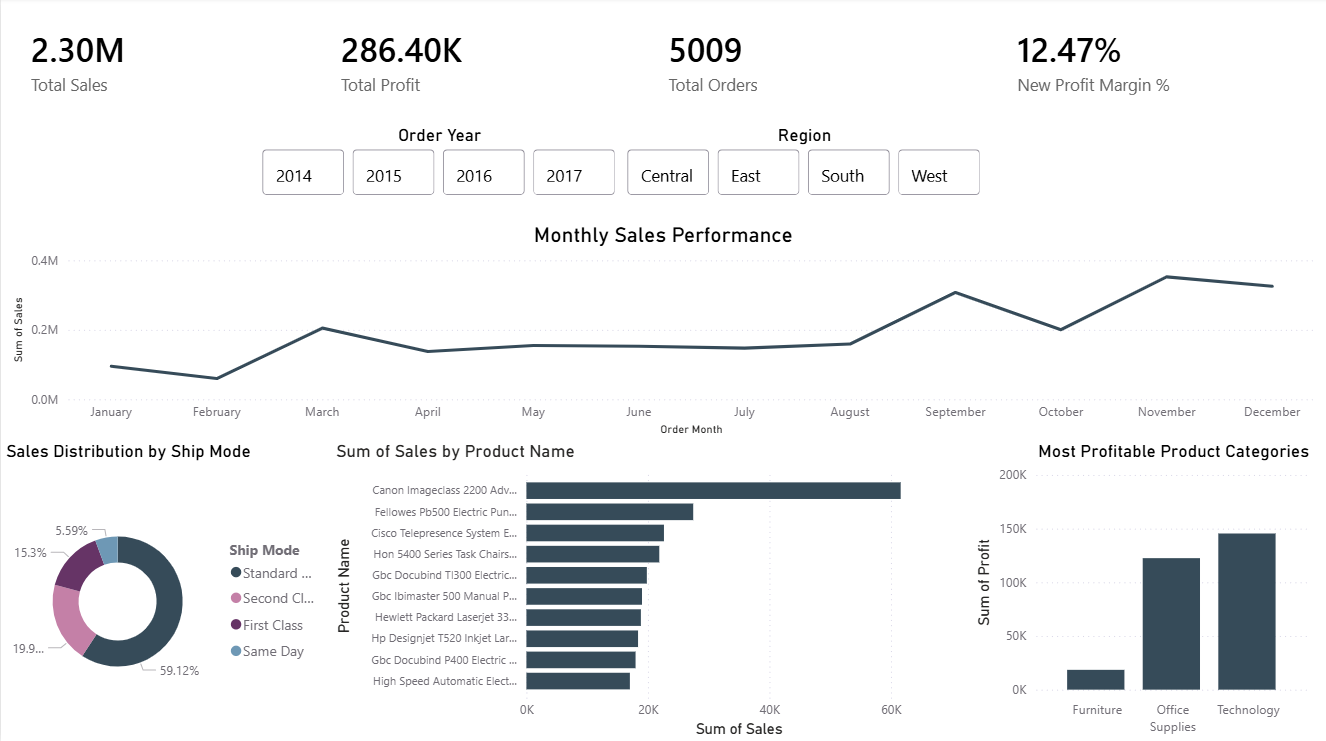

What the dashboard file says about the page in this screenshot:
{"tool":"powerbi","page":{"name":"Page 1","canvas":[1280,720],"ordinal":0},"visuals":[{"type":"advancedSlicerVisual","fields":{"Values":["Table1.Region"]},"box":[599.6,123.1,352.3,73.6],"z":0},{"type":"advancedSlicerVisual","fields":{"Values":["Table1.Order Year"]},"box":[247.3,123.1,352.3,73.6],"z":1000},{"type":"lineChart","title":"Monthly Sales Performance","fields":{"Category":["Table1.Order Month"],"Y":["Sum(Table1.Sales)"]},"box":[6,217.2,1266.8,211.1],"z":2000},{"type":"donutChart","title":"Sales Distribution by Ship Mode","fields":{"Category":["Table1.Ship Mode"],"Y":["Sum(Table1.Sales)"]},"box":[0,428.6,318.6,291.4],"z":3000},{"type":"columnChart","title":"Most Profitable Product Categories","fields":{"Category":["Table1.Category","Table1.Sub-Category"],"Y":["Sum(Table1.Profit)"]},"box":[935.7,428.6,331.4,291.4],"z":4000},{"type":"cardVisual","fields":{"Data":["Count(Table1.Order ID)"]},"box":[615.3,0,319.7,123.1],"z":5000},{"type":"cardVisual","fields":{"Data":["Table1.New Profit Margin  %"]},"box":[951.9,0,328.2,123.1],"z":6000},{"type":"cardVisual","fields":{"Data":["Sum(Table1.Sales)"]},"box":[0,0,299.2,123.1],"z":7000},{"type":"cardVisual","fields":{"Data":["Sum(Table1.Profit)"]},"box":[299.2,0,316.1,123.1],"z":8000},{"type":"clusteredBarChart","fields":{"Category":["Table1.Product Name"],"Y":["Sum(Table1.Sales)"]},"box":[318.6,428.6,614.3,291.4],"z":9000}]}

Visuals, with their boxes in screenshot pixels (x1, y1, x2, y2), scaled from the page's 1280x720 canvas onto the 1326x741 screenshot:
advancedSlicerVisual - Table1.Region: (x1=621, y1=127, x2=986, y2=202)
advancedSlicerVisual - Table1.Order Year: (x1=256, y1=127, x2=621, y2=202)
"Monthly Sales Performance" lineChart: (x1=6, y1=224, x2=1319, y2=441)
"Sales Distribution by Ship Mode" donutChart: (x1=0, y1=441, x2=330, y2=740)
"Most Profitable Product Categories" columnChart: (x1=969, y1=441, x2=1313, y2=740)
cardVisual - Count(Table1.Order ID): (x1=637, y1=0, x2=969, y2=127)
cardVisual - Table1.New Profit Margin  %: (x1=986, y1=0, x2=1325, y2=127)
cardVisual - Sum(Table1.Sales): (x1=0, y1=0, x2=310, y2=127)
cardVisual - Sum(Table1.Profit): (x1=310, y1=0, x2=637, y2=127)
clusteredBarChart - Table1.Product Name x Sum(Table1.Sales): (x1=330, y1=441, x2=966, y2=740)
